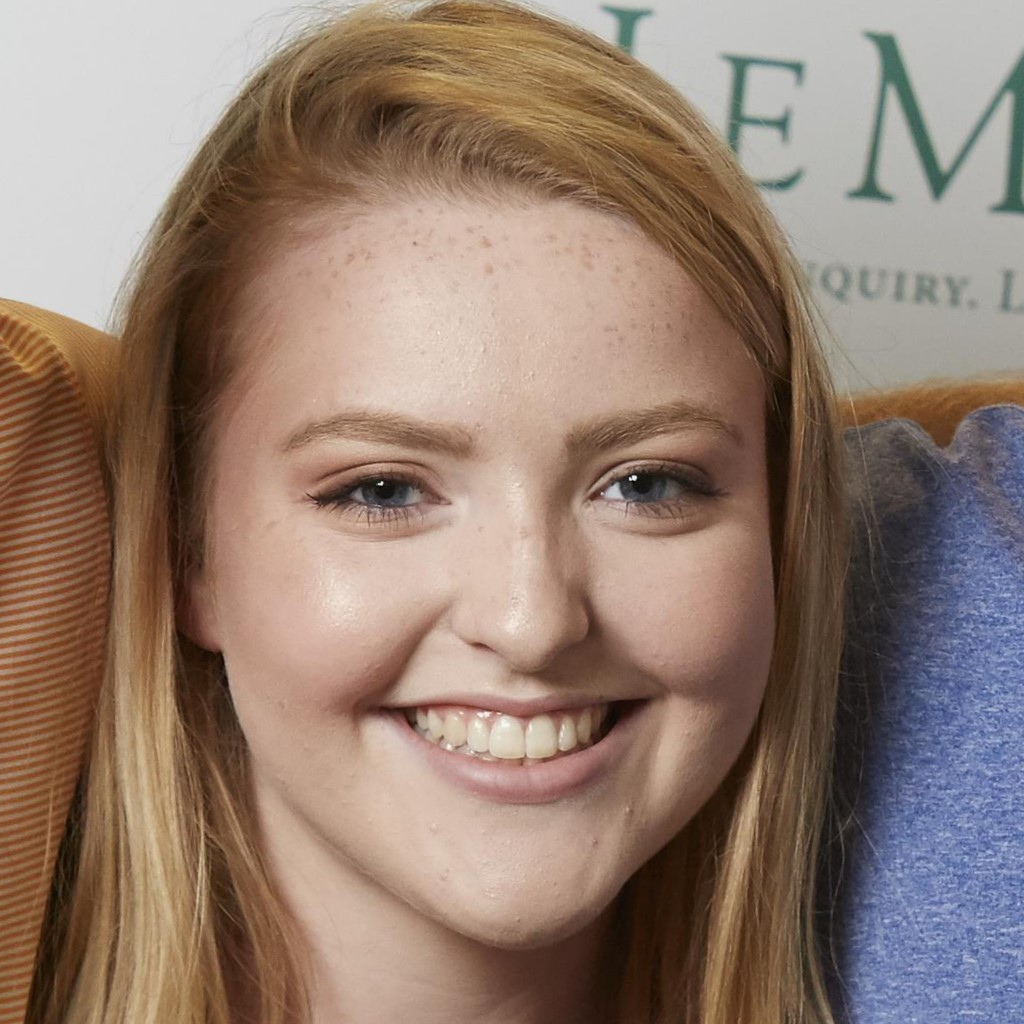sin_mascara: (199, 128, 782, 964)
